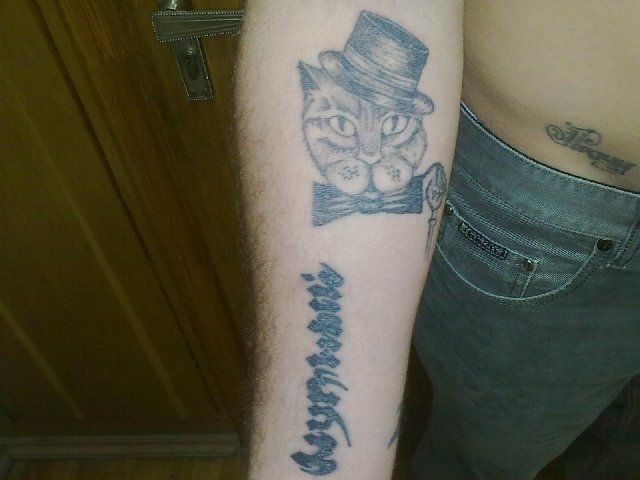tatu3_bukva: (297, 259, 356, 477), (539, 117, 638, 187)
tatu8_kot: (283, 2, 447, 261)
